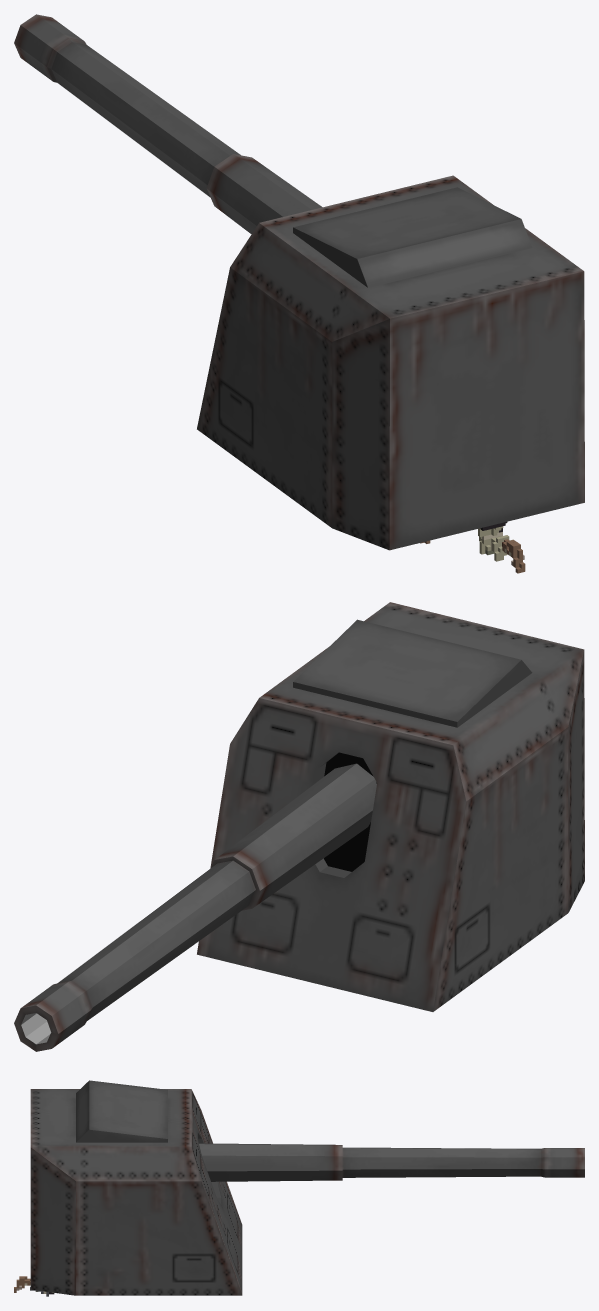
The model's file is normandy_turret.glb.
3 views of the same model, one above another, from view 1: azimuth 30°, elevation 25°; view 2: azimuth 150°, elevation 25°; view 3: azimuth 270°, elevation 25° (orthographic). The views are drawn at different scales.
Parts seen in each view (by area): view 1: 00_turret_normandy_battery_turret.mesh, weapon_turret_0_normandy_battery_gun.mesh, crew_soldier_SLOT_00_GUNNER; view 2: 00_turret_normandy_battery_turret.mesh, weapon_turret_0_normandy_battery_gun.mesh; view 3: 00_turret_normandy_battery_turret.mesh, weapon_turret_0_normandy_battery_gun.mesh.
Part boxes in pixels (<box>): 00_turret_normandy_battery_turret.mesh: <box>197,175,584,550</box>; weapon_turret_0_normandy_battery_gun.mesh: <box>14,14,322,233</box>; crew_soldier_SLOT_00_GUNNER: <box>420,522,525,573</box>; 00_turret_normandy_battery_turret.mesh: <box>197,602,584,1011</box>; weapon_turret_0_normandy_battery_gun.mesh: <box>14,763,376,1051</box>; 00_turret_normandy_battery_turret.mesh: <box>30,1080,242,1295</box>; weapon_turret_0_normandy_battery_gun.mesh: <box>199,1143,584,1181</box>.
Bounding box in the file's own units: 1.95 × 2.34 × 6.63.
Materials: 37 (1 with a texture image).
